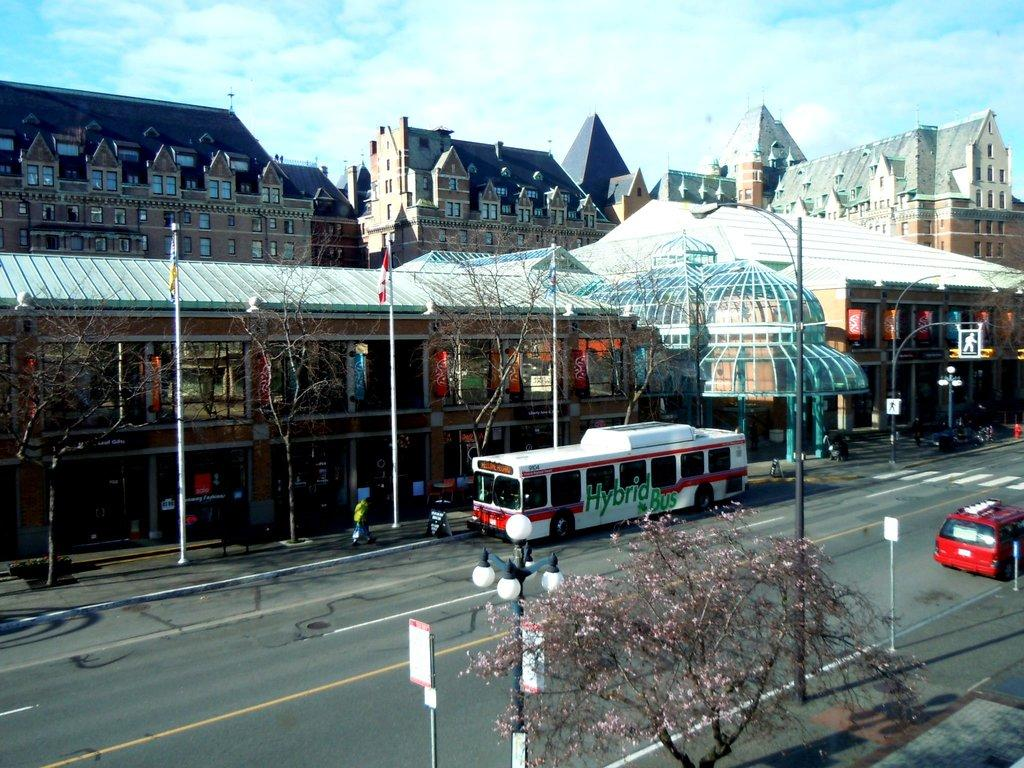vehicle: (472, 423, 746, 541), (932, 497, 1024, 582)
